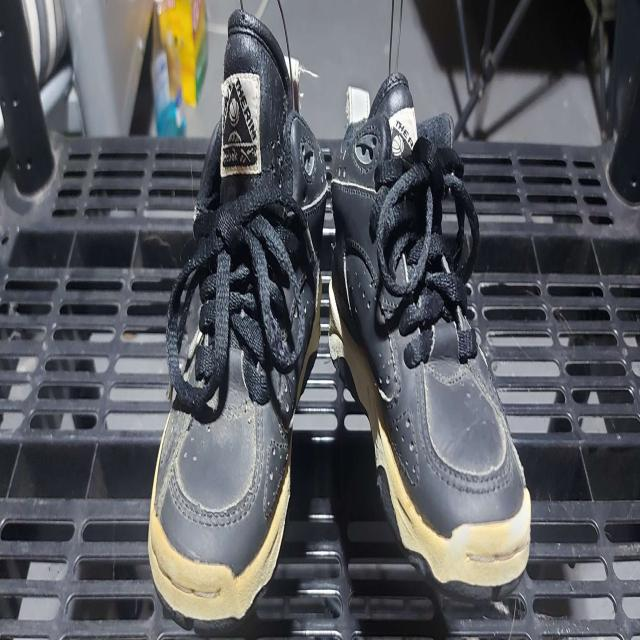shoe: (146, 6, 328, 631), (328, 69, 530, 601)
